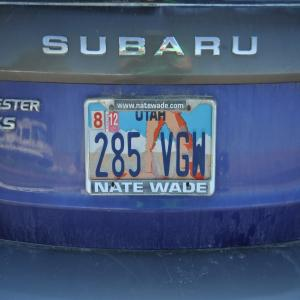Vehicle-registration-plate: (88, 88, 222, 202)
